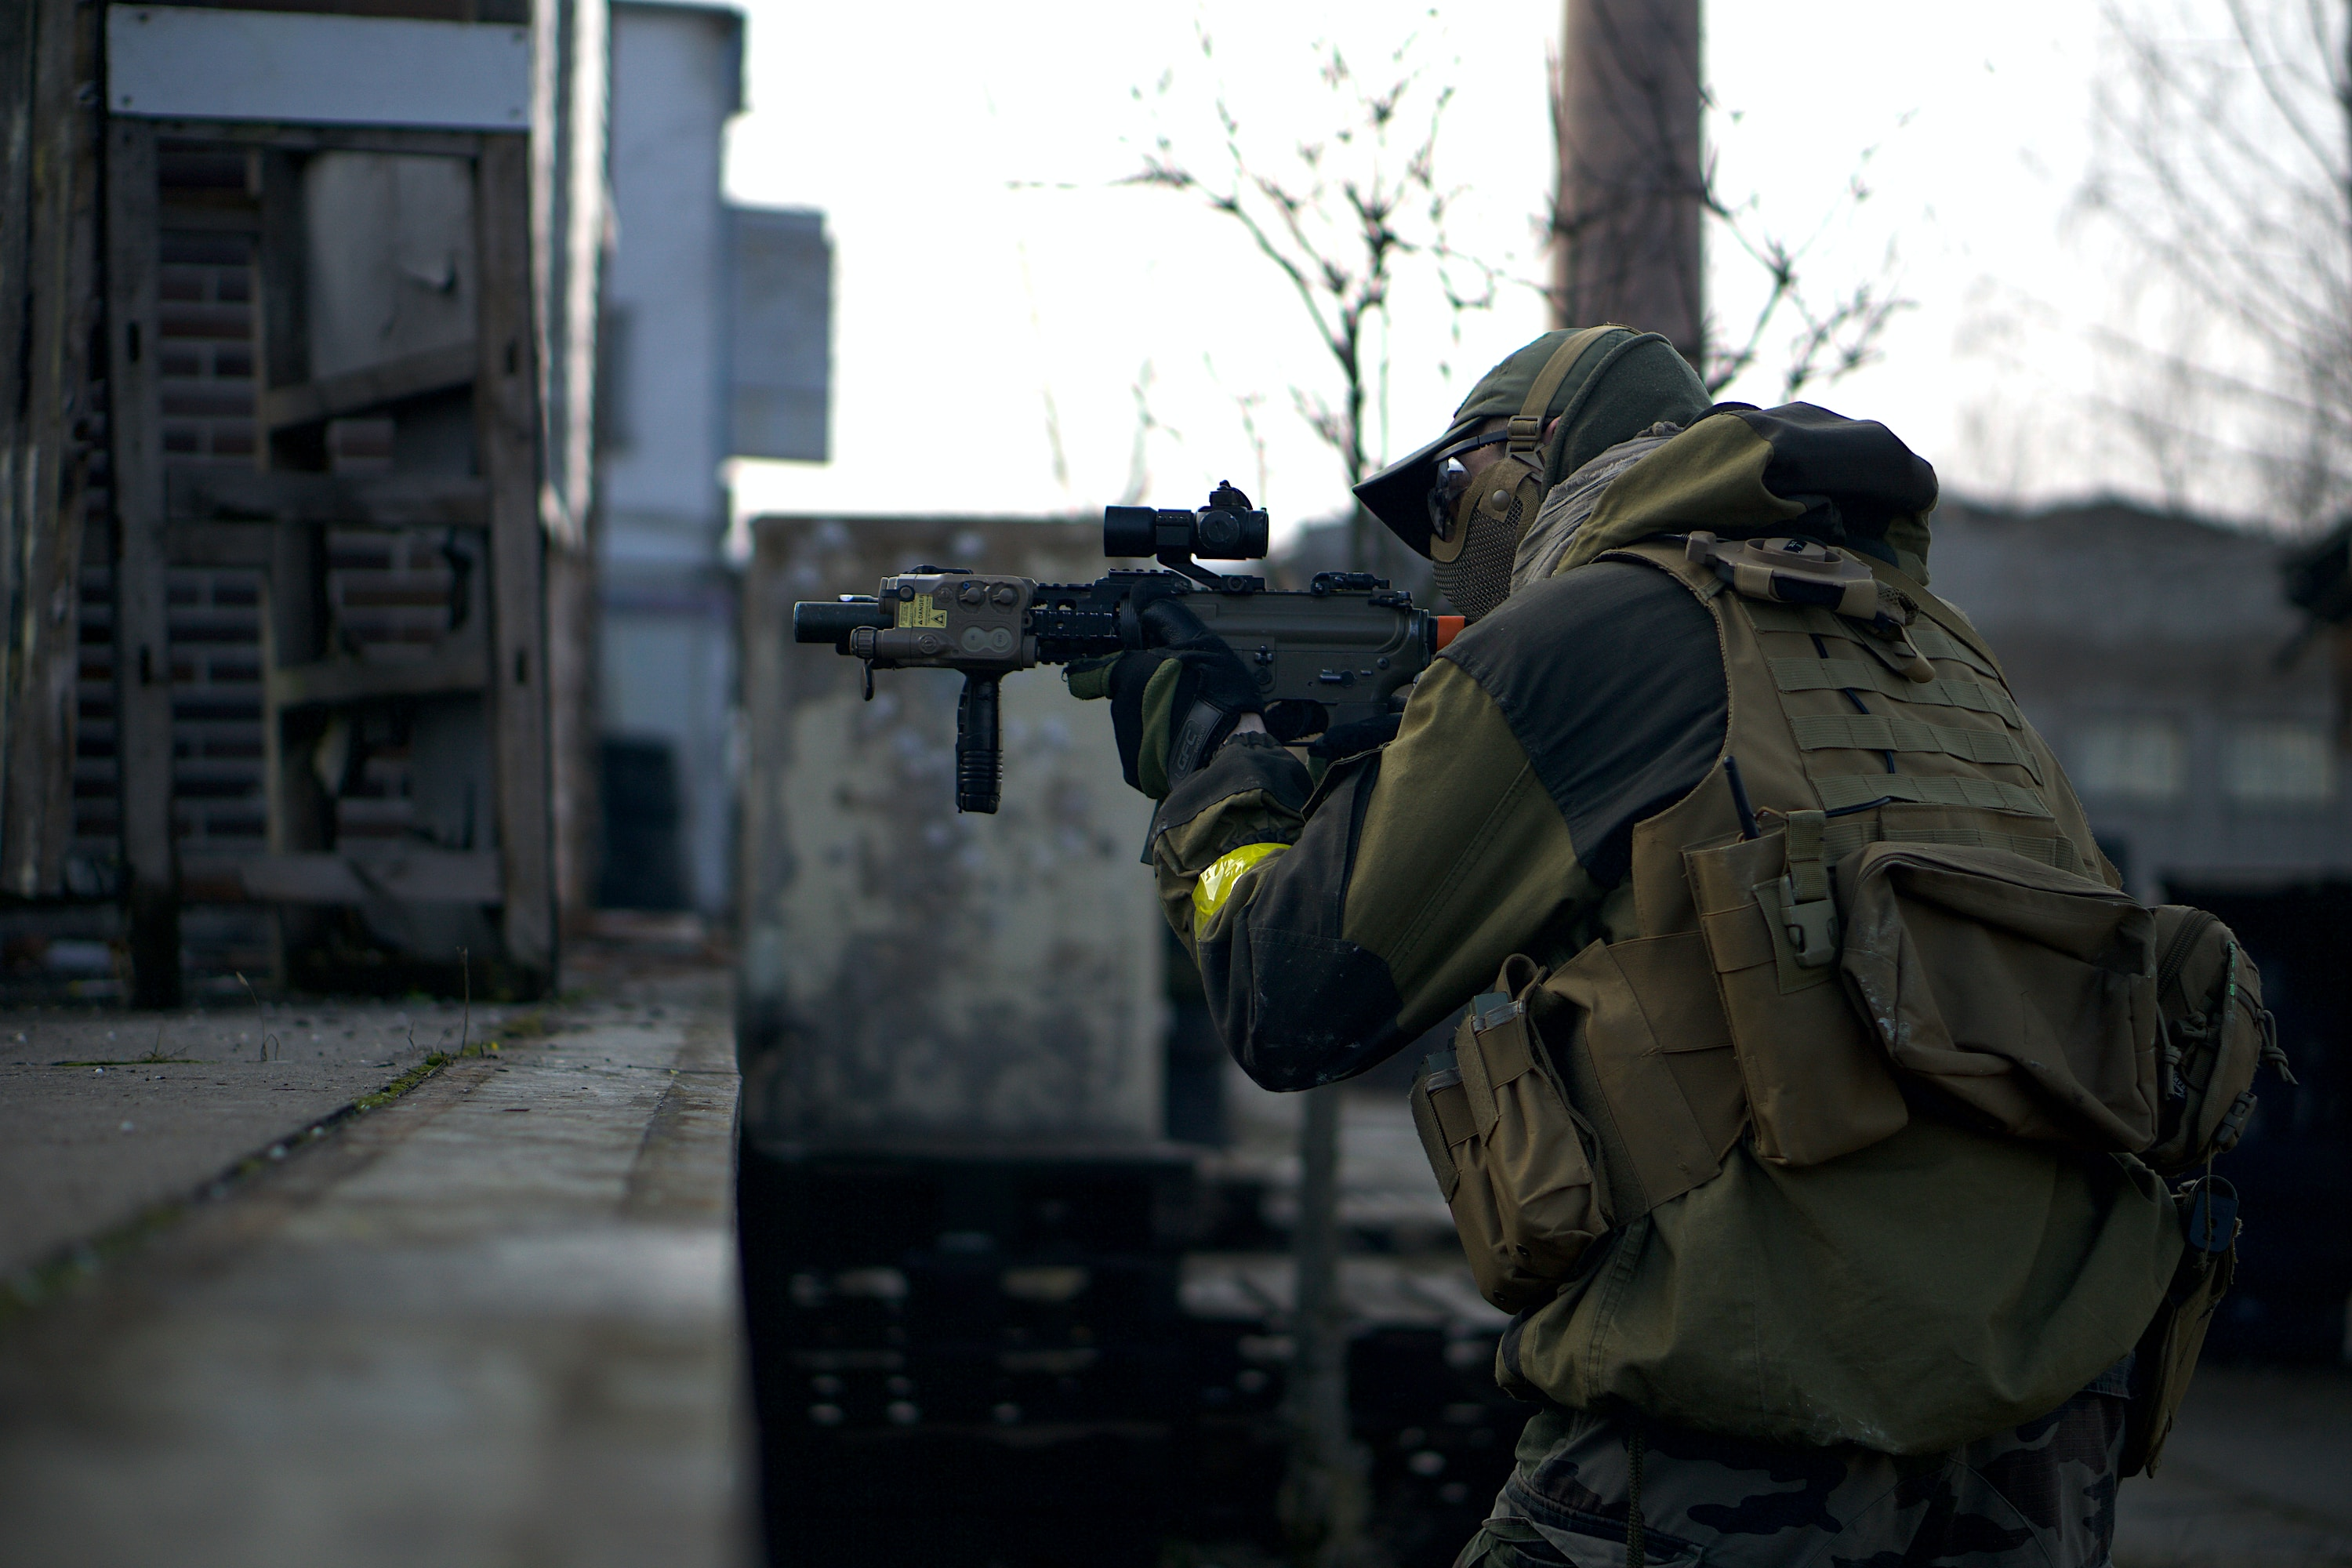gun: (791, 480, 1494, 812)
